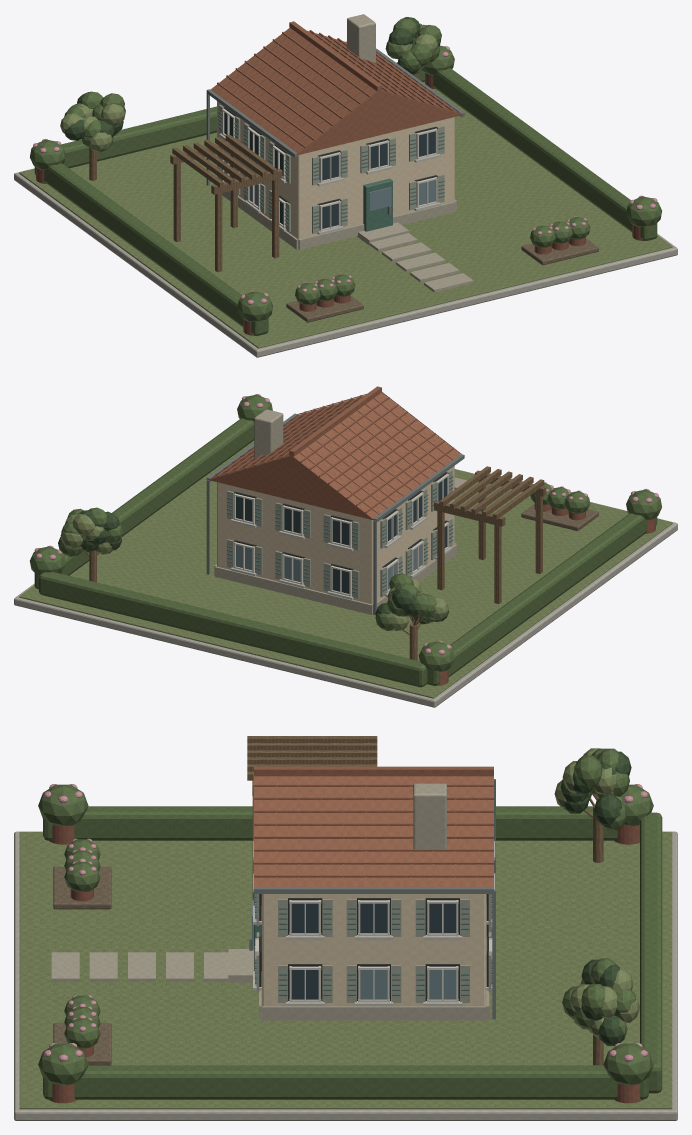
The model's file is EXP_COTTAGE.glb.
3 renders of one model, top to bottom at view 1: azimuth 30°, elevation 25°; view 2: azimuth 150°, elevation 25°; view 3: azimuth 270°, elevation 25°, orthographic. The views are drawn at different scales.
Visible parts, largest first — view 1: EXP_COTTAGE_Visual; view 2: EXP_COTTAGE_Visual; view 3: EXP_COTTAGE_Visual.
Part boxes in pixels (x1=…): EXP_COTTAGE_Visual: x1=14, y1=14, x2=677, y2=357; EXP_COTTAGE_Visual: x1=14, y1=386, x2=677, y2=707; EXP_COTTAGE_Visual: x1=14, y1=736, x2=677, y2=1120.
Size of what is drawn, in the model's own units: 5.92 by 2.2 by 5.92.
22 materials, 17 textured.
